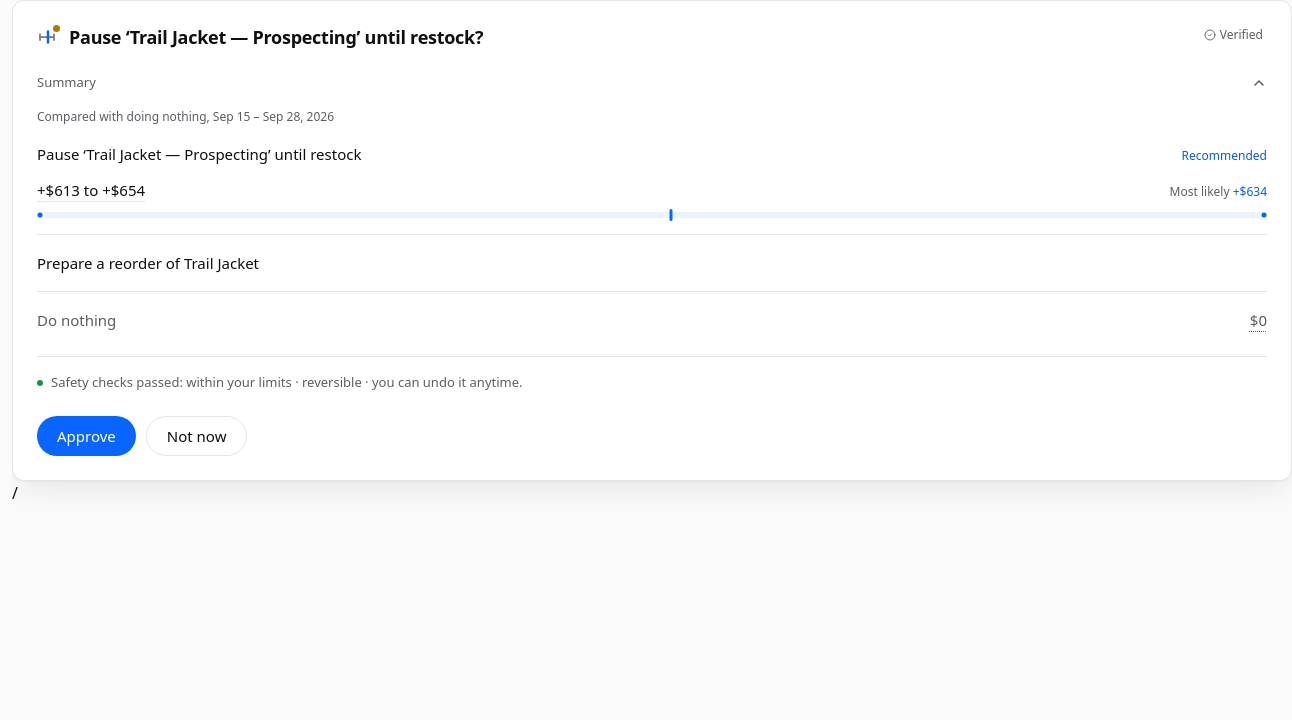
Test: a decision in the conversation › says why an answer could not be sent
Expected: the text "Safety checks passed" is shown, x1=51 y1=373 x2=523 y2=391
Click the button "Approve".
click(86, 436)  # box x1=37 y1=416 x2=136 y2=456
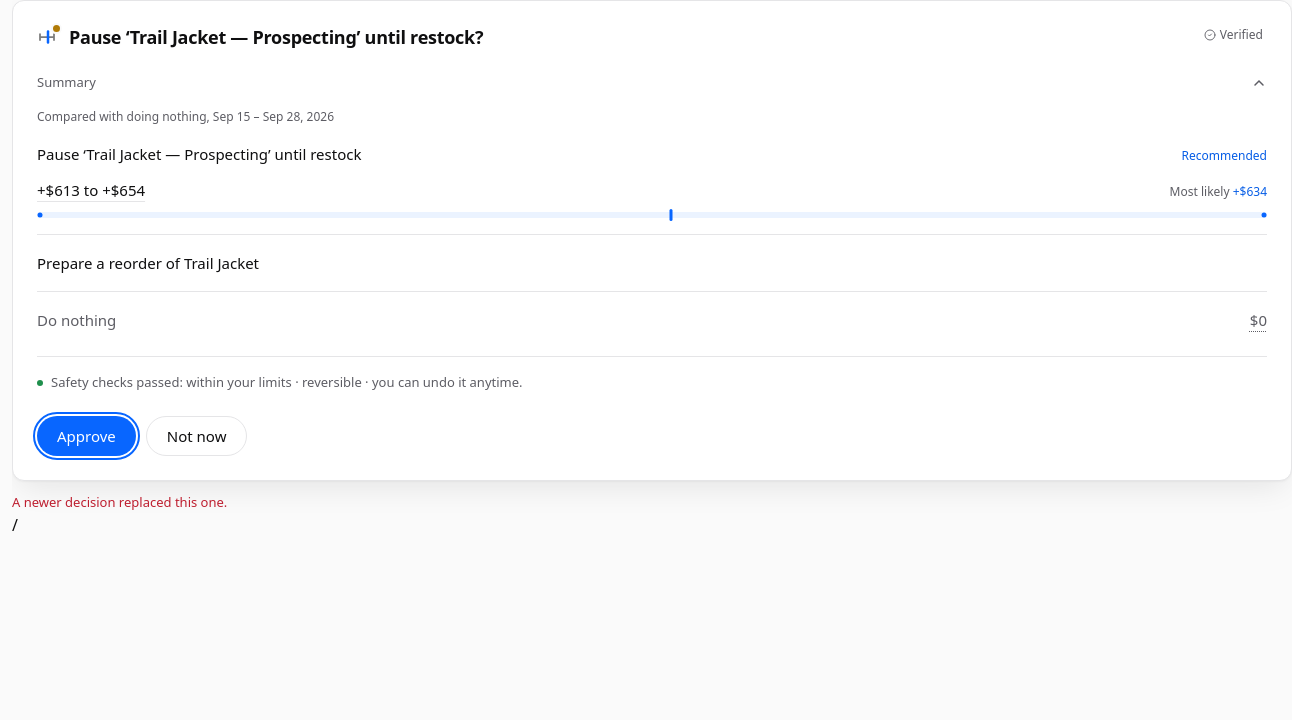
Now the message reads "A newer decision replaced this one.", box x1=12 y1=493 x2=227 y2=511
Click the button "Approve".
click(86, 436)  # box x1=37 y1=416 x2=136 y2=456
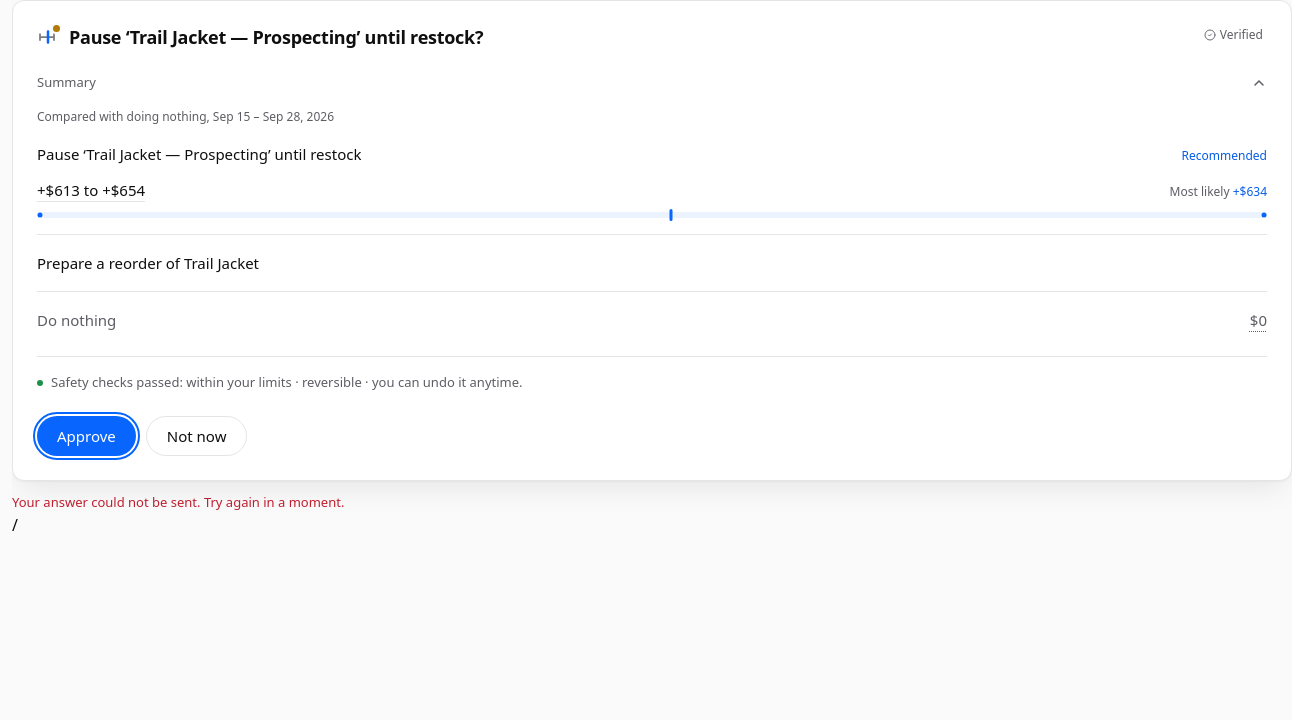
Now the message shows "could not be sent", box x1=12 y1=493 x2=344 y2=511
